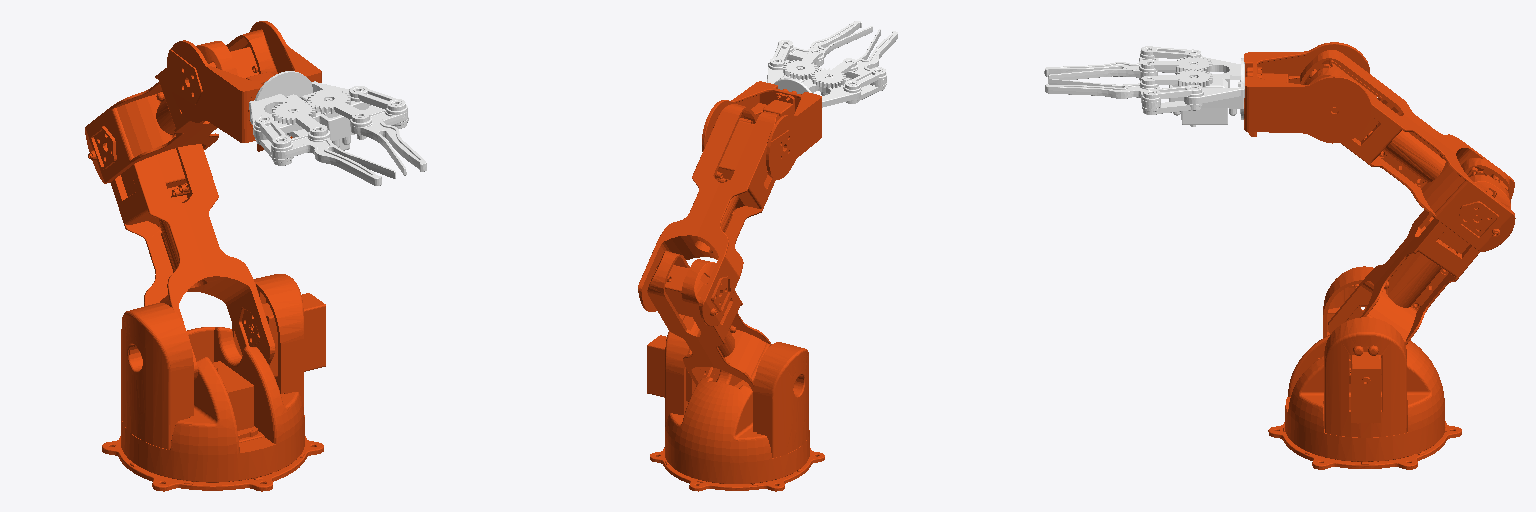
URDF robot description (robo_arm):
<?xml version="1.0" encoding="utf-8"?>

<robot name="robo_arm" xmlns:xacro="http://www.ros.org/wiki/xacro">

    <!-- Constants for robot dimensions-->
    <property name="width" value="0.1" />
    <property name="height" value="2" />
    <property name="axle_offset" value="0.05" />
    <property name="damping" value="0.5" />
    <property name="friciton" value="100" />

    <!-- Materials -->
    <material name="white">
        <color rgba="1 1 1 1" />
    </material>

    <material name="orange">
        <color rgba="0.90 0.35 0.117 1" />
    </material>

    <material name="black">
        <color rgba="0 0 0 1" />
    </material>

    <!-- WORLD-->
    <link name="world">
    </link>
    <joint name="joint_world" type="fixed">
        <parent link="world" />
        <child link="base_link" />
    </joint>

    <!-- BASE LINK -->
    <link name="base_link">

        <inertial>
            <origin xyz="7.16570679801176E-10 0.00116092156507622 2.8893545031334E-06" rpy="0 0 0" />
            <mass value="0.0324100192967721" />
            <inertia ixx="2.68587605210783E-05" ixy="-4.84597989563569E-14"
                ixz="-3.40425204588481E-13" iyy="5.34932089470888E-05" iyz="-5.34738719597888E-10"
                izz="2.68551853927962E-05" />
        </inertial>

        <visual>
            <origin xyz="0 0 0" rpy="0 0 0" />
            <geometry>
                <mesh filename="package://robo_arm/meshes/base_link.STL" />
            </geometry>
            <material name="orange" />
        </visual>

        <collision>
            <origin xyz="0 0 0" rpy="0 0 0" />
            <geometry>
                <mesh filename="package://robo_arm/meshes/base_link.STL" />
            </geometry>
        </collision>

    </link>

    <!-- JOINT 1 -->
    <joint name="Joint_1" type="revolute">
        <!-- <safety_controller k_position="100.0" k_velocity="40.0" soft_lower_limit="-1.47" soft_upper_limit="1.47" /> -->
        <origin xyz="0 0 0" rpy="0 0 -3.1319" />
        <parent link="base_link" />
        <child link="Link_1" />
        <axis xyz="0 0 1" />
        <limit lower="-1.57" upper="1.57" effort="87" velocity="3" />
        <!-- <dynamics damping="0.5" friction="100"/> -->
    </joint>

    <link name="Link_1">

        <inertial>
            <origin xyz="-0.0076360494909025 0.00173746113523518 0.0423898735296237" rpy="0 0 0" />
            <mass value="0.190717117623996" />
            <inertia ixx="0.00015099352493845" ixy="-1.84583823946254E-09"
                ixz="-4.84370294611225E-08" iyy="0.000124524225271564" iyz="2.72900596568772E-06"
                izz="0.00016196923748443" />
        </inertial>

        <visual>
            <origin xyz="0 0 0" rpy="0 0 0" />
            <geometry>
                <mesh filename="package://robo_arm/meshes/Link_1.STL" />
            </geometry>
            <material name="orange" />
        </visual>

        <collision>
            <origin xyz="0 0 0" rpy="0 0 0" />
            <geometry>
                <mesh filename="package://robo_arm/meshes/Link_1.STL" />
            </geometry>
        </collision>

    </link>


    <!-- JOINT 2 -->
    <joint name="Joint_2" type="revolute">
        <!-- <safety_controller k_position="100.0" k_velocity="40.0" soft_lower_limit="-1.55" soft_upper_limit="0.25" /> -->
        <origin xyz="0 0 0.071305" rpy="3.1416 -0.64542 1.5708" />
        <parent link="Link_1" />
        <child link="Link_2" />
        <axis xyz="0 1 0" />
        <limit lower="-1.65" upper="0.35" effort="87" velocity="3" />
        <!-- <dynamics damping="0.5" friction="100"/> -->
    </joint>

    <link name="Link_2">

        <inertial>
            <origin xyz="1.5639E-05 0.00028327 -0.082259" rpy="0 0 0" />
            <mass value="0.084639" />
            <inertia ixx="0.00014025" ixy="-4.6225E-12" ixz="-3.076E-07" iyy="0.00012793"
                iyz="1.6402E-07" izz="3.0857E-05" />
        </inertial>

        <visual>
            <origin xyz="0 0 0" rpy="0 0 0" />
            <geometry>
                <mesh filename="package://robo_arm/meshes/Link_2.STL" />
            </geometry>
            <material name="orange" />
        </visual>

        <collision>
            <origin xyz="0 0 0" rpy="0 0 0" />
            <geometry>
                <mesh filename="package://robo_arm/meshes/Link_2.STL" />
            </geometry>
        </collision>

    </link>


    <!-- JOINT 3 -->
    <joint name="Joint_3" type="revolute">
        <!-- <safety_controller k_position="100.0" k_velocity="40.0" soft_lower_limit="-3.04" soft_upper_limit="0.04" /> -->
        <origin xyz="0 0 -0.12503" rpy="0 1.5181 -3.1416" />
        <parent link="Link_2" />
        <child link="Link_3" />
        <axis xyz="0 1 0" />
        <limit lower="-3.14" upper="0.14" effort="87" velocity="3" />
        <!-- <dynamics damping="0.5" friction="100"/>-->
    </joint>

    <link name="Link_3">

        <inertial>
            <origin xyz="1.56358976851345E-05 -0.000283205718507318 -0.0822589976475606" rpy="0 0 0" />
            <mass value="0.0846391903579548" />
            <inertia ixx="0.000140247302733448" ixy="-4.69358368842248E-12"
                ixz="-3.07601656051575E-07" iyy="0.000127934879343709" iyz="-1.64072771614451E-07"
                izz="3.08569655735298E-05" />
        </inertial>

        <visual>
            <origin xyz="0 0 0" rpy="0 0 0" />
            <geometry>
                <mesh filename="package://robo_arm/meshes/Link_3.STL" />
            </geometry>
            <material name="orange" />
        </visual>

        <collision>
            <origin xyz="0 0 0" rpy="0 0 0" />
            <geometry>
                <mesh filename="package://robo_arm/meshes/Link_3.STL" />
            </geometry>
        </collision>

    </link>


    <!-- JOINT 4 -->
    <joint name="Joint_4" type="revolute">
        <!-- <safety_controller k_position="100.0" k_velocity="40.0" soft_lower_limit="-2.2" soft_upper_limit="0.9" /> -->
        <origin xyz="0 0 -0.12503" rpy="-0.88402 0 1.5708" />
        <parent link="Link_3" />
        <child link="Link_4" />
        <axis xyz="1 0 0" />
        <limit lower="-2.3" upper="1" effort="87" velocity="3" />
        <!-- <dynamics damping="0.5" friction="100"/> -->
    </joint>

    <link name="Link_4">
        <inertial>
            <origin xyz="-0.000290289833333423 0.0355291858374829 0.00215430200212582" rpy="0 0 0" />
            <mass value="0.0395556566949035" />
            <inertia ixx="2.27747448686024E-05" ixy="-1.15013948411467E-07"
                ixz="-7.6137139609455E-10" iyy="1.92306725633858E-05" iyz="-3.31159527434926E-07"
                izz="3.22545102910992E-05" />
        </inertial>

        <visual>
            <origin xyz="0 0 0" rpy="0 0 0" />
            <geometry>
                <mesh filename="package://robo_arm/meshes/Link_4.STL" />
            </geometry>
            <material name="orange" />
        </visual>
        <collision>
            <origin xyz="0 0 0" rpy="0 0 0" />
            <geometry>
                <mesh filename="package://robo_arm/meshes/Link_4.STL" />
            </geometry>
        </collision>
    </link>


    <!-- JOINT 5 -->
    <joint name="Joint_5" type="revolute">
        <!-- <safety_controller k_position="100.0" k_velocity="40.0" soft_lower_limit="-3.04" soft_upper_limit="-0.1" /> -->
        <origin xyz="-0.0002 0.059362 -0.0026" rpy="-1.6304 0 -1.5708" />
        <parent link="Link_4" />
        <child link="End_Effector" />
        <axis xyz="1 0 0" />
        <limit lower="-3.14" upper="0.2" effort="87" velocity="3" />
        <!-- <dynamics damping="0.5" friction="100"/> -->
    </joint>

    <link name="End_Effector">
        <inertial>
            <origin xyz="-0.0410338250877696 0.00230286861801432 0.00425320117288218" rpy="0 0 0" />
            <mass value="0.0486239972257278" />
            <inertia ixx="8.01424949641006E-06" ixy="2.26577983146827E-07"
                ixz="4.03073122467701E-07" iyy="1.72794175621324E-05" iyz="2.87107880228718E-07"
                izz="1.26363118173937E-05" />
        </inertial>

        <visual>
            <origin xyz="0 0 0" rpy="0 0 0" />
            <geometry>
                <mesh filename="package://robo_arm/meshes/End_Effector.STL" />
            </geometry>
            <material name="white" />
        </visual>
        <collision>
            <origin xyz="0 0 0" rpy="0 0 0" />
            <geometry>
                <mesh filename="package://robo_arm/meshes/End_Effector.STL" />
            </geometry>
        </collision>
    </link>

</robot>

--- What the picture shows (computed from the rendered views, not written in the file) ---
Views: 3 orthographic renders of the robot side by side, from view 1: azimuth 30°, elevation 25°; view 2: azimuth 150°, elevation 25°; view 3: azimuth 270°, elevation 25°.
Model robo_arm with 7 links and 6 joints (5 revolute, 1 fixed), rooted at world, posed all joints at 0.
Links seen in each view (by area): view 1: Link_1, Link_2, End_Effector, Link_3, Link_4, base_link; view 2: Link_1, Link_3, Link_2, End_Effector, Link_4, base_link; view 3: Link_1, Link_3, Link_2, Link_4, End_Effector, base_link.
Boxes of the visible links, box(x1,y1,x2,y2) form: Link_1: box(121, 274, 325, 482); Link_2: box(106, 143, 275, 382); End_Effector: box(249, 71, 426, 185); Link_3: box(85, 29, 277, 183); Link_4: box(167, 21, 321, 151); base_link: box(102, 436, 323, 491); Link_1: box(647, 331, 809, 483); Link_3: box(638, 104, 783, 326); Link_2: box(647, 251, 771, 390); End_Effector: box(767, 21, 897, 107); Link_4: box(702, 81, 821, 179); base_link: box(650, 447, 824, 491); Link_1: box(1285, 266, 1444, 461); Link_3: box(1300, 50, 1515, 251); Link_2: box(1328, 158, 1510, 383); Link_4: box(1244, 42, 1370, 143); End_Effector: box(1044, 46, 1244, 126); base_link: box(1268, 421, 1461, 469).
Bounding box of the posed robot: 0.13 × 0.3162 × 0.2772 m (x, y, z).
Meshes: 6 distinct files referenced, 6 mesh visuals loaded (6 binary STL).